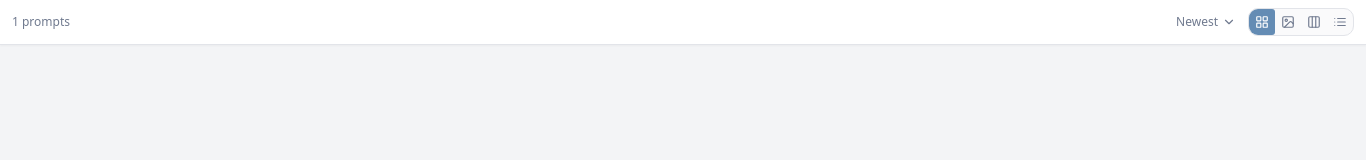
Test: PromptListHeader › switches view mode to kanban and reveals the column picker
Click the button named "Kanban View" at (1314, 22), box [1301,9,1327,35]
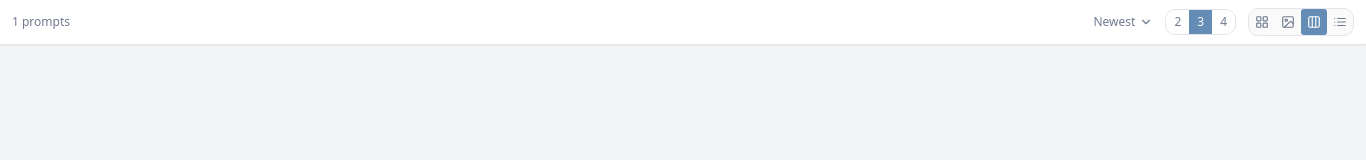
Expected: the button "2" is shown, [1166,10,1189,34]
Expected: the button "3" is shown, [1189,10,1212,34]
Expected: the button "4" is shown, [1212,10,1235,34]
